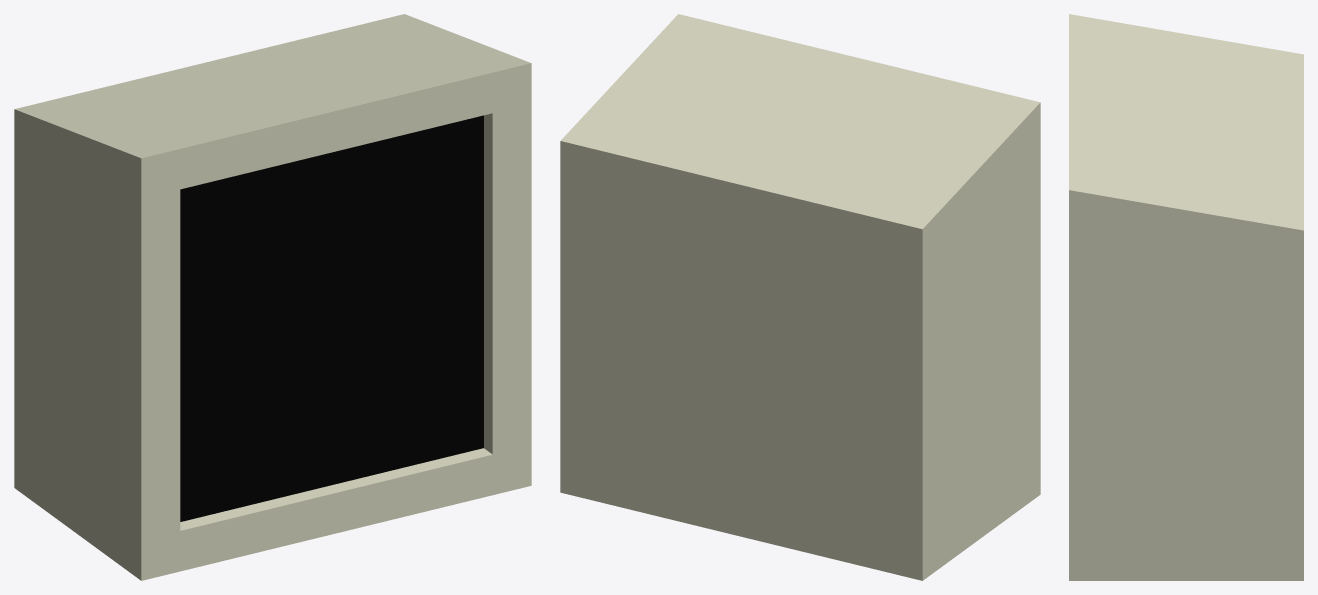
File: puter.dae
3 renders of one model, left to right at view 1: azimuth 30°, elevation 25°; view 2: azimuth 150°, elevation 25°; view 3: azimuth 270°, elevation 25°, orthographic. The views are drawn at different scales.
Parts seen in each view (by area): view 1: Cube; view 2: Cube; view 3: Cube.
Part boxes in pixels (left/top/right/bottom): Cube: left=14, top=14, right=531, bottom=580; Cube: left=560, top=14, right=1040, bottom=580; Cube: left=1069, top=14, right=1303, bottom=580.
Size of the model in its own units: 1.93 by 1.09 by 2.13.
